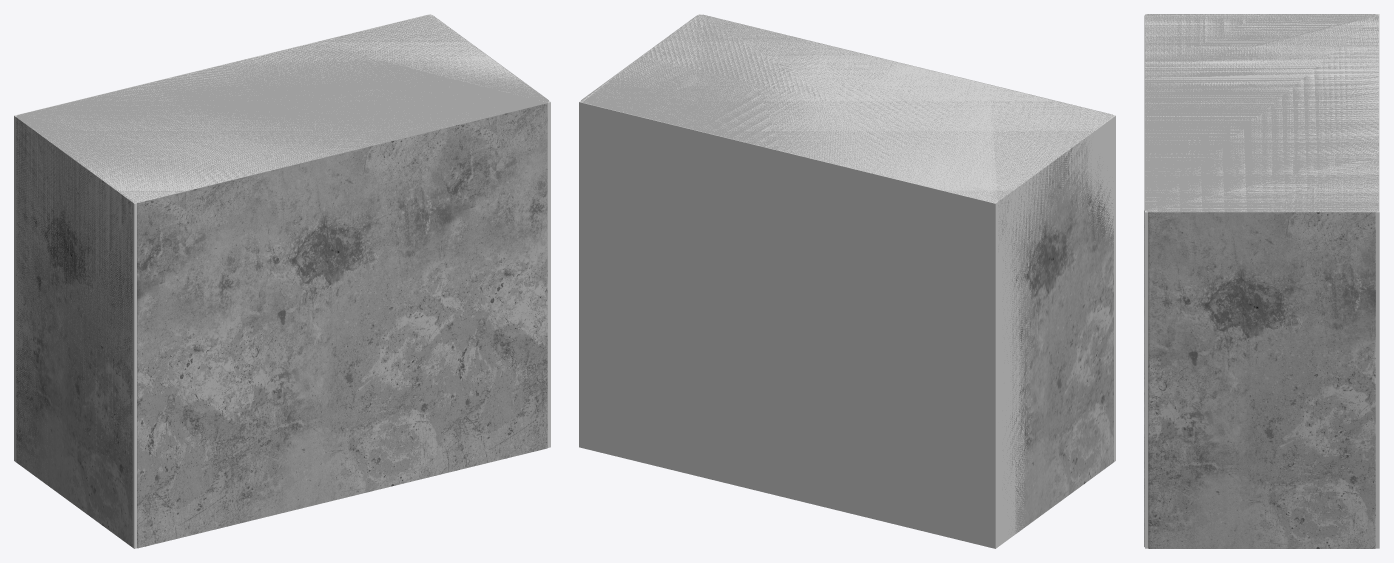
File: SM_ButtressPier_02b.fbx
3 renders of one model, left to right at view 1: azimuth 30°, elevation 25°; view 2: azimuth 150°, elevation 25°; view 3: azimuth 270°, elevation 25°, orthographic. The views are drawn at different scales.
Parts seen in each view (by area): view 1: SM_ButtressPier_02b_LOD0, SM_ButtressPier_02b_ConvexHulls; view 2: SM_ButtressPier_02b_ConvexHulls, SM_ButtressPier_02b_LOD0; view 3: SM_ButtressPier_02b_LOD0, SM_ButtressPier_02b_ConvexHulls.
Part boxes in pixels (left/top/right/bottom): SM_ButtressPier_02b_LOD0: left=16, top=15, right=548, bottom=548; SM_ButtressPier_02b_ConvexHulls: left=14, top=14, right=550, bottom=548; SM_ButtressPier_02b_ConvexHulls: left=579, top=14, right=1115, bottom=548; SM_ButtressPier_02b_LOD0: left=581, top=14, right=1113, bottom=534; SM_ButtressPier_02b_LOD0: left=1144, top=14, right=1378, bottom=548; SM_ButtressPier_02b_ConvexHulls: left=1145, top=14, right=1379, bottom=548.
Size of the model in its own units: 506 by 253 by 400.
